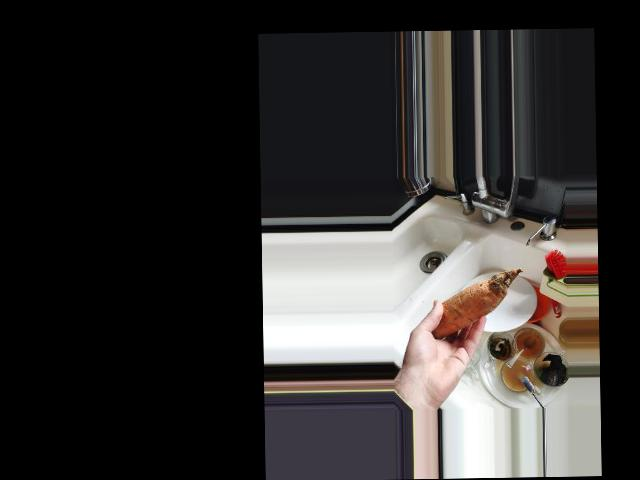sweet_potato: (423, 267, 525, 344)
